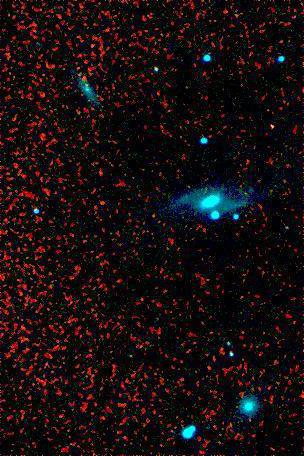star: (228, 181, 258, 211)
